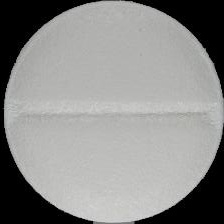51138-106: (0, 0, 224, 224)
